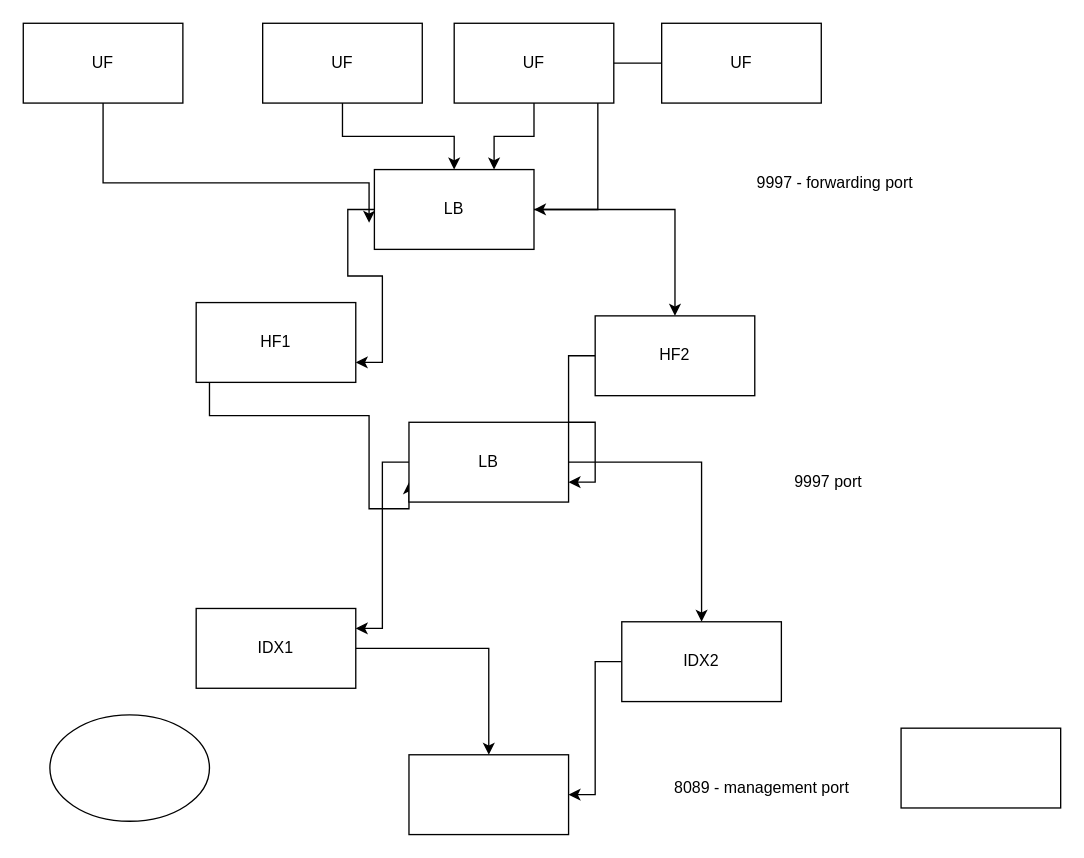
This 1084x858 diagram has some shape labels left out. The centre of each missing label's shape, as x and y in pixels:
"DS" belongs at [129,767].
"LM" belongs at [980,767].
"SH" belongs at [488,794].
